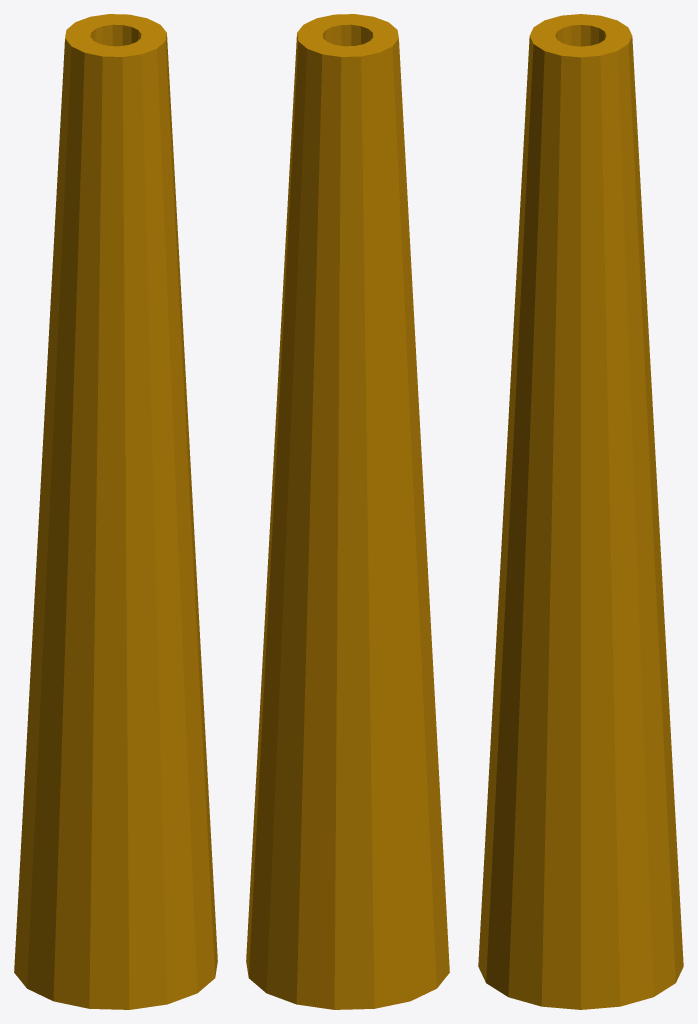
Rendered from tree_miki (1).fbx.
3 renders of one model, left to right at view 1: azimuth 30°, elevation 25°; view 2: azimuth 150°, elevation 25°; view 3: azimuth 270°, elevation 25°, orthographic.
Visible parts, largest first — view 1: tree_miki; view 2: tree_miki; view 3: tree_miki.
Boxes of the visible parts, x1=… form: tree_miki: x1=14, y1=14, x2=217, y2=1009; tree_miki: x1=246, y1=14, x2=449, y2=1009; tree_miki: x1=478, y1=14, x2=683, y2=1009.
Size of the model in its own units: 4000 by 20000 by 4000.
